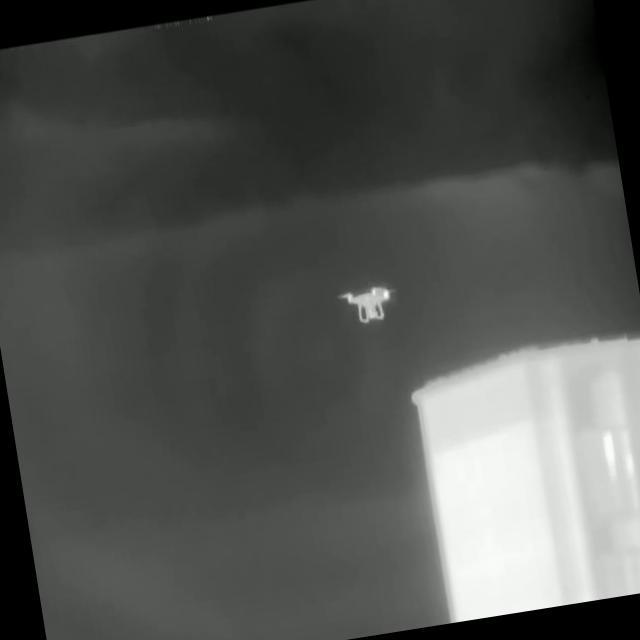DRONE: (336, 283, 402, 326)
